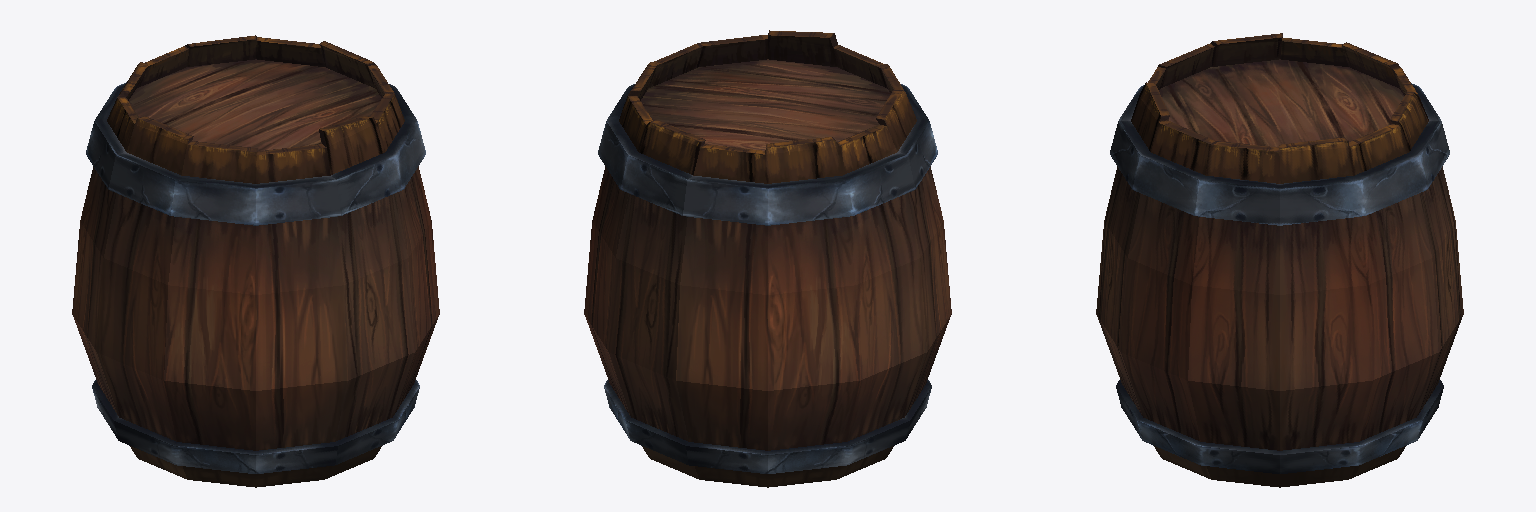
3 views of the same model, side by side, from view 1: azimuth 30°, elevation 25°; view 2: azimuth 150°, elevation 25°; view 3: azimuth 270°, elevation 25° (orthographic).
Visible parts, largest first — view 1: barrel_mesh; view 2: barrel_mesh; view 3: barrel_mesh.
Part boxes in pixels (bbox=[...]): barrel_mesh: bbox=[72, 35, 439, 487]; barrel_mesh: bbox=[584, 30, 951, 487]; barrel_mesh: bbox=[1096, 33, 1463, 487].
Bounding box in the file's own units: 0.5794 × 0.6045 × 0.5794.
1 materials, 1 textured.